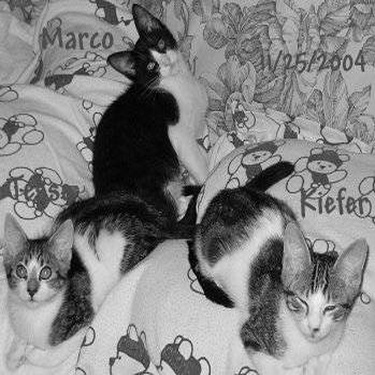cat: (181, 164, 375, 355), (3, 184, 174, 365), (89, 2, 201, 192)
